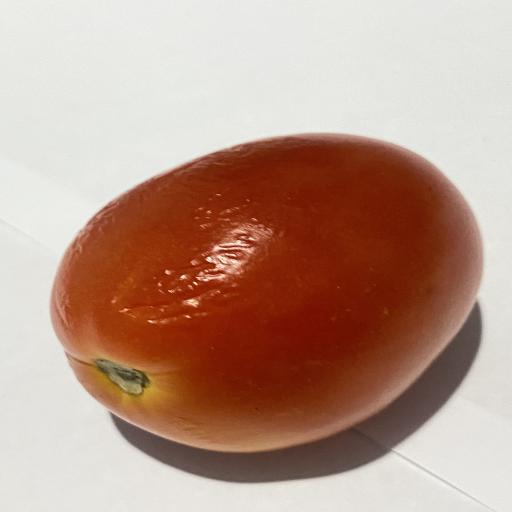spoiled: (51, 134, 482, 452)
